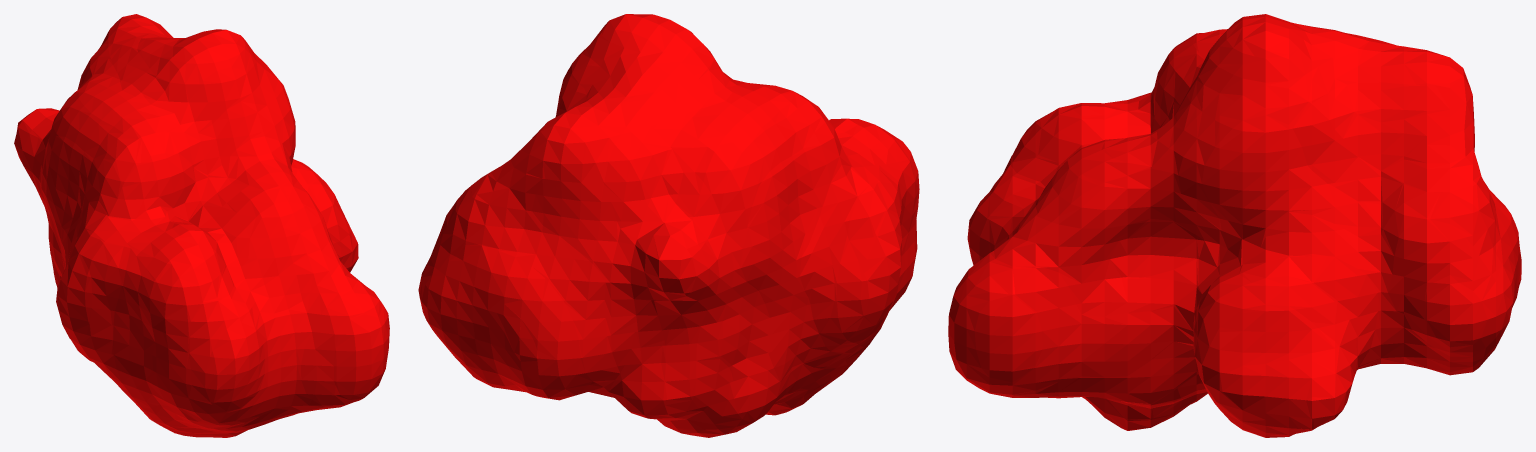
File: adhP_coarse.dae
The picture shows the model from 3 angles, left to right: view 1: azimuth 30°, elevation 25°; view 2: azimuth 150°, elevation 25°; view 3: azimuth 270°, elevation 25°; orthographic projection. The views are drawn at different scales.
Visible parts, largest first — view 1: adhP; view 2: adhP; view 3: adhP.
Boxes of the visible parts, bbox=[...] form: adhP: bbox=[14, 14, 389, 437]; adhP: bbox=[418, 14, 919, 437]; adhP: bbox=[948, 14, 1521, 437].
Bounding box in the file's own units: 51.96 × 53.57 × 65.06.
